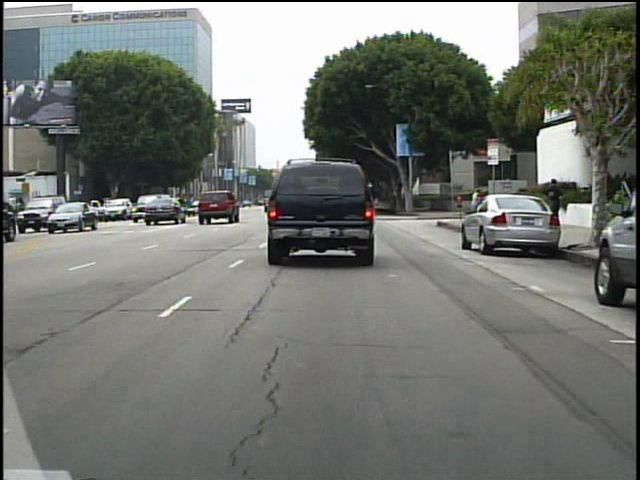person: (543, 173, 565, 212), (468, 185, 487, 225)
